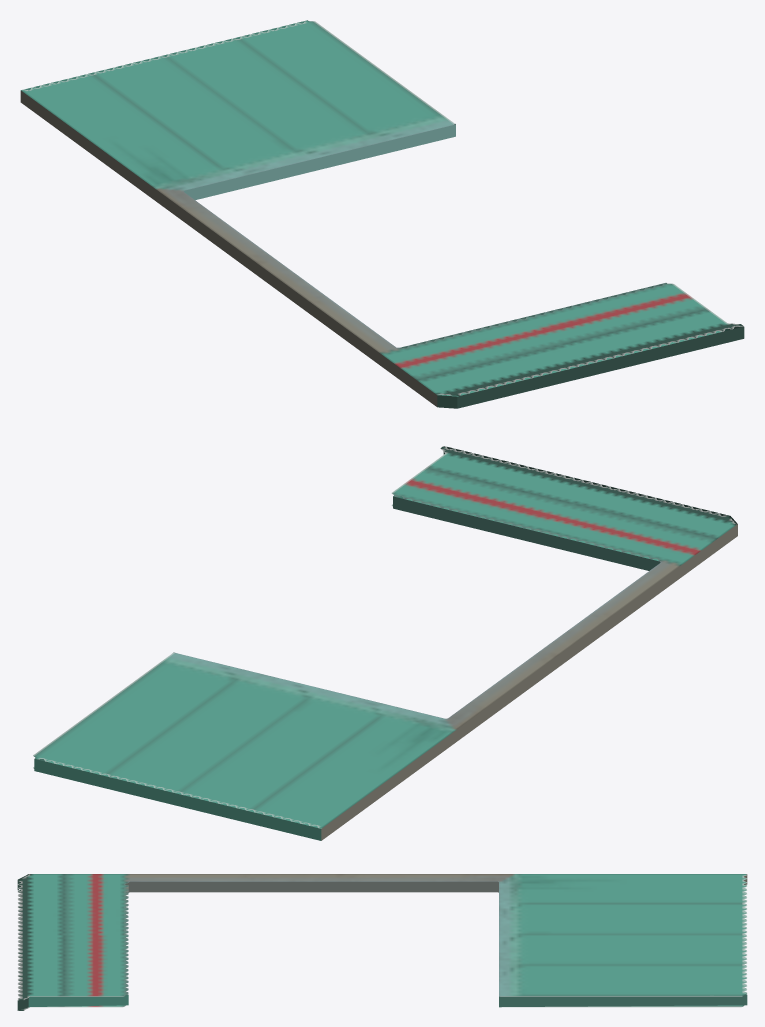
File: pz_native_location_restaurant_diner_01_11_frame.obj
3 renders of one model, top to bottom at view 1: azimuth 30°, elevation 25°; view 2: azimuth 150°, elevation 25°; view 3: azimuth 270°, elevation 25°, orthographic. The views are drawn at different scales.
Visible parts, largest first — view 1: pz_native_location_restaurant_diner_01_11_frame; view 2: pz_native_location_restaurant_diner_01_11_frame; view 3: pz_native_location_restaurant_diner_01_11_frame.
Part boxes in pixels (x1,y1,x2,y2): pz_native_location_restaurant_diner_01_11_frame: (20, 20, 744, 408); pz_native_location_restaurant_diner_01_11_frame: (33, 446, 737, 840); pz_native_location_restaurant_diner_01_11_frame: (17, 874, 747, 1010).
Size of the model in its own units: 1.06 by 0.04 by 2.54.
Materials: 1 (1 with a texture image).
